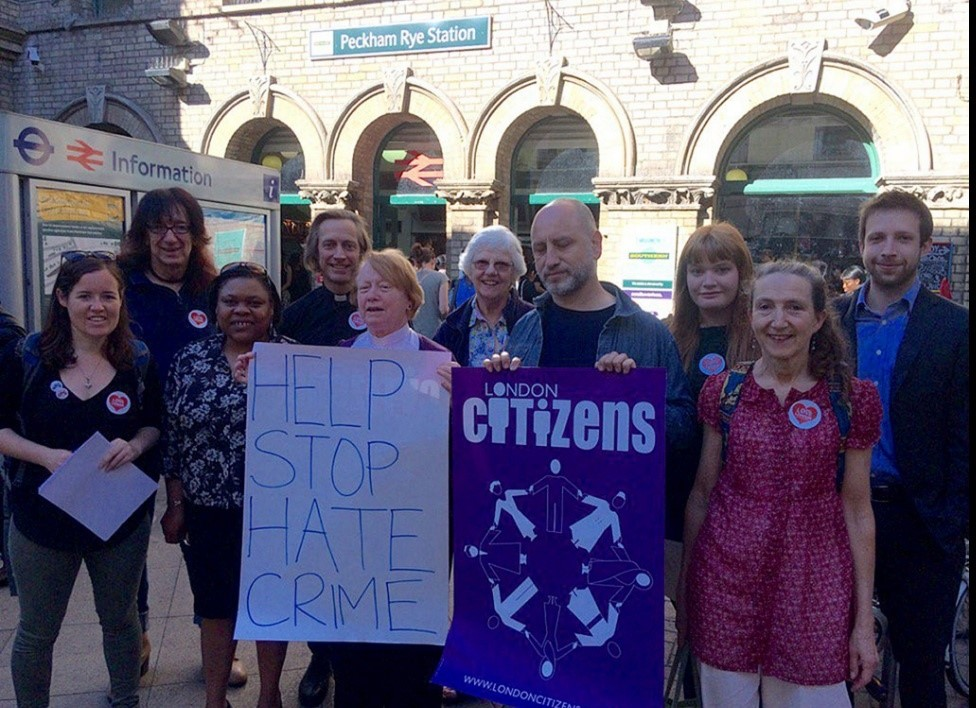face_no_mask: (748, 256, 825, 362), (532, 199, 604, 296), (675, 222, 752, 312), (859, 192, 935, 282), (55, 255, 122, 336), (355, 251, 418, 331), (209, 268, 272, 343), (305, 211, 366, 281)
